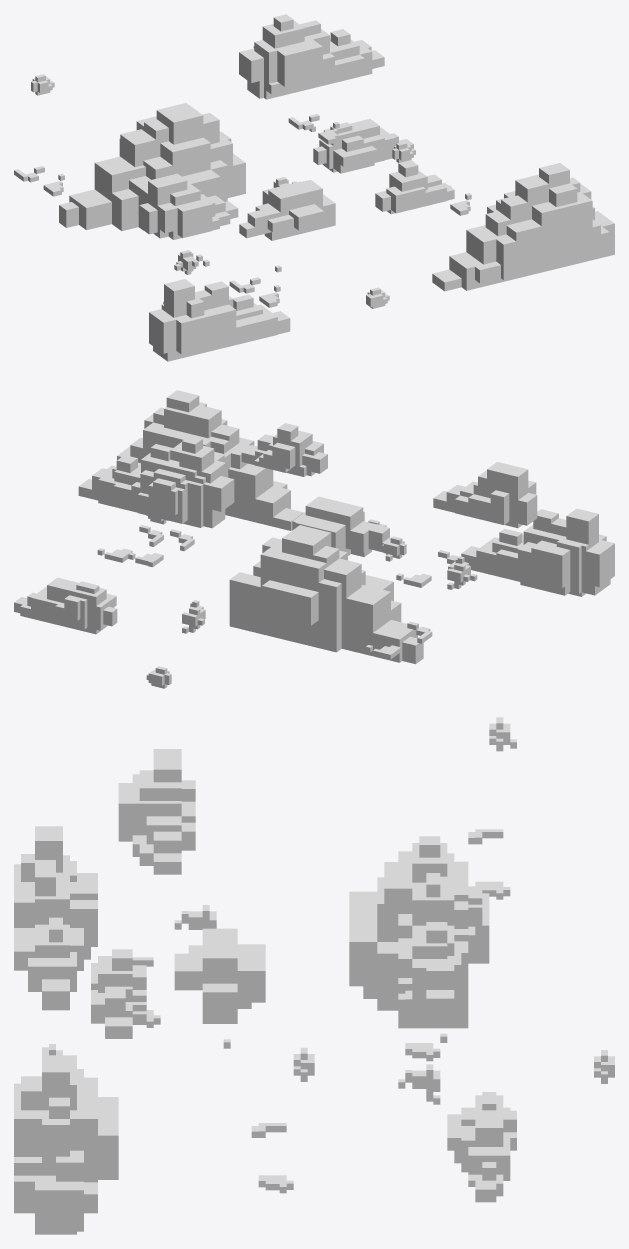
Rendered from manycloud.fbx.
The picture shows the model from 3 angles, top to bottom: view 1: azimuth 30°, elevation 25°; view 2: azimuth 150°, elevation 25°; view 3: azimuth 270°, elevation 25°; orthographic projection. The views are drawn at different scales.
Parts seen in each view (by area): view 1: 对象; view 2: 对象; view 3: 对象.
Boxes of the visible parts, left/top/right/bottom form: 对象: left=14, top=14, right=614, bottom=361; 对象: left=14, top=390, right=614, bottom=688; 对象: left=14, top=717, right=614, bottom=1234.
Size of the model in its own units: 107 by 41 by 86.
1 material, 1 textured.
